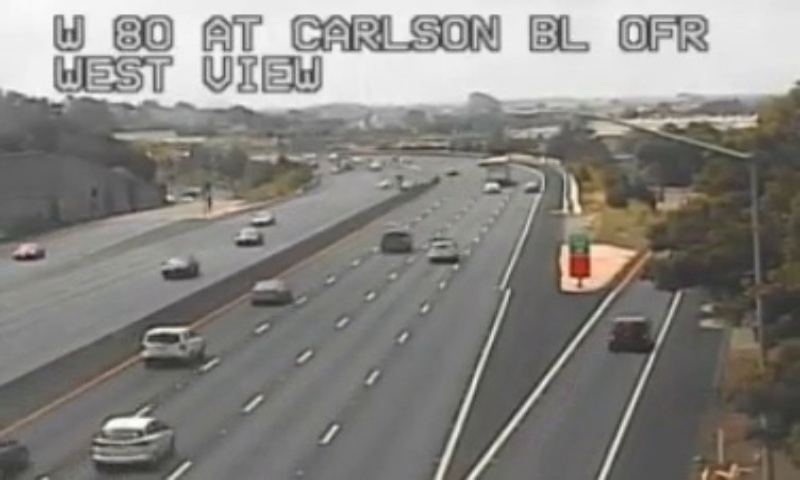car: (91, 415, 172, 465), (141, 327, 205, 361), (608, 317, 651, 351), (249, 280, 290, 304), (380, 230, 412, 252), (427, 240, 457, 259)
